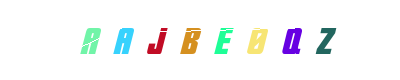0: (206, 0, 286, 80)
A: (84, 0, 164, 80), (113, 0, 193, 80)
B: (150, 0, 230, 80)
E: (159, 0, 239, 80)
J: (118, 0, 198, 80)
Q: (252, 0, 332, 80)
Z: (285, 0, 365, 80)
